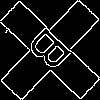B: (25, 25, 81, 81)
